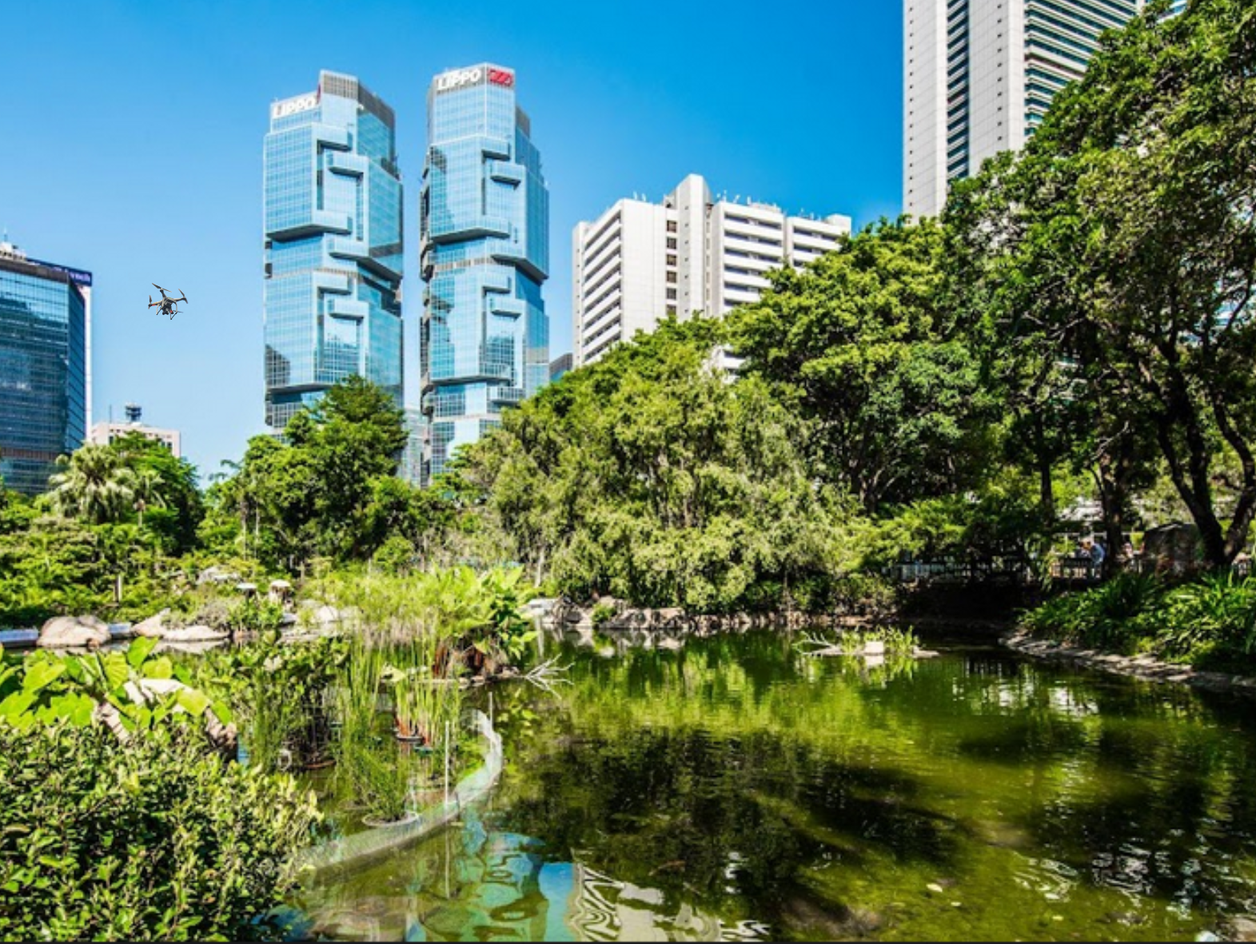drone_other: (145, 280, 190, 324)
